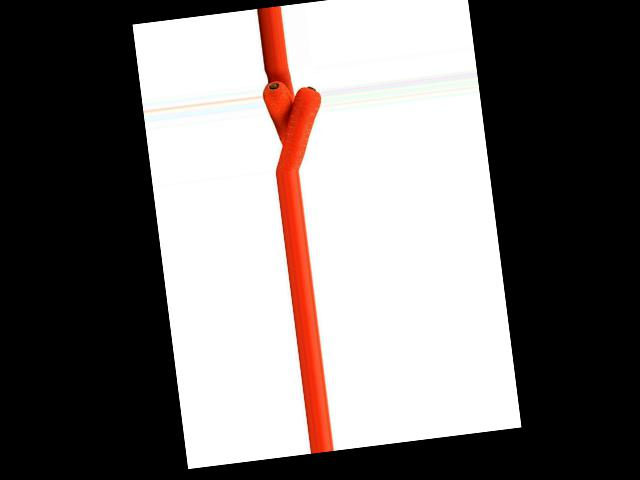carrot: (262, 75, 297, 149)
